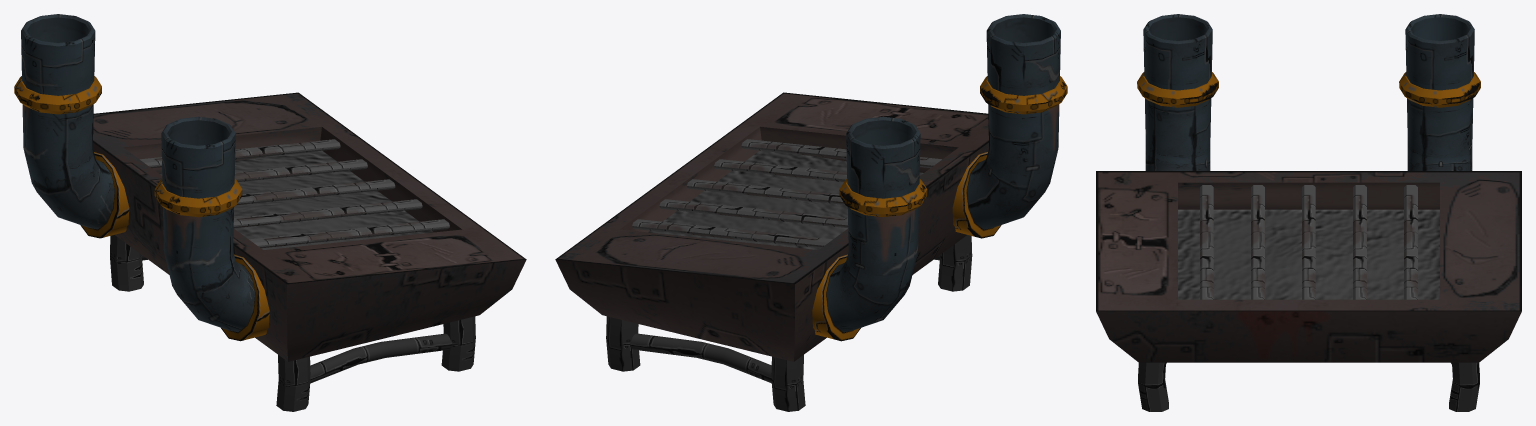
File: Grill.fbx
3 renders of one model, left to right at view 1: azimuth 30°, elevation 25°; view 2: azimuth 150°, elevation 25°; view 3: azimuth 270°, elevation 25°, orthographic. The views are drawn at different scales.
Parts seen in each view (by area): view 1: Grill; view 2: Grill; view 3: Grill.
Boxes of the visible parts, x1,y1,x2,y2 form: Grill: [14, 14, 526, 411]; Grill: [555, 14, 1067, 411]; Grill: [1096, 14, 1521, 411].
Bounding box in the file's own units: 205 × 173 × 251.
Materials: 1 (1 with a texture image).
